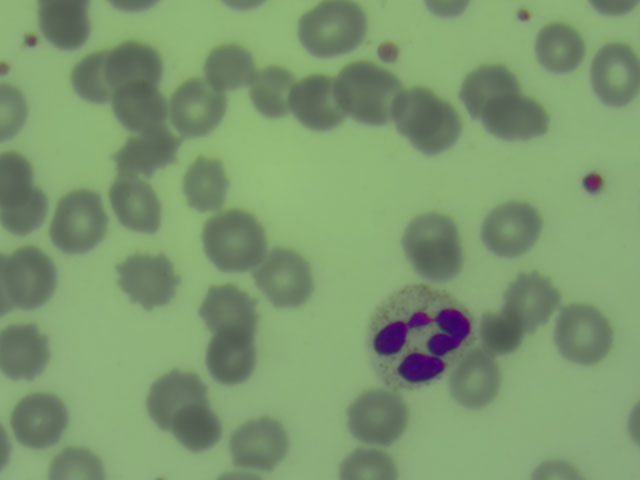Platelets: (373, 38, 404, 67), (578, 168, 608, 197), (514, 5, 535, 27), (21, 32, 42, 50), (1, 59, 13, 77)
RBC: (301, 1, 369, 56), (487, 97, 558, 147), (5, 247, 59, 311), (593, 42, 640, 110), (484, 200, 539, 256), (506, 274, 561, 330), (474, 303, 529, 359), (449, 354, 504, 410), (407, 218, 462, 274), (349, 391, 404, 447), (233, 413, 288, 469), (169, 401, 224, 457), (149, 365, 204, 421), (204, 329, 259, 385), (202, 282, 257, 338), (205, 212, 260, 268), (121, 252, 176, 308), (12, 392, 67, 448), (176, 158, 231, 214), (530, 21, 585, 77), (461, 60, 516, 116), (384, 81, 439, 137), (342, 67, 397, 123), (287, 72, 342, 128), (247, 63, 302, 119), (202, 39, 257, 95), (169, 74, 224, 130), (274, 245, 329, 301), (51, 194, 106, 250), (109, 177, 164, 233), (117, 126, 172, 182), (107, 37, 162, 93), (61, 48, 116, 104), (555, 305, 610, 361), (38, 1, 93, 56), (1, 322, 55, 378), (327, 443, 408, 480), (518, 444, 588, 480), (114, 84, 166, 132), (45, 441, 108, 480), (1, 185, 46, 238), (1, 150, 35, 206), (1, 81, 32, 139)
WBC: (370, 286, 473, 390)
